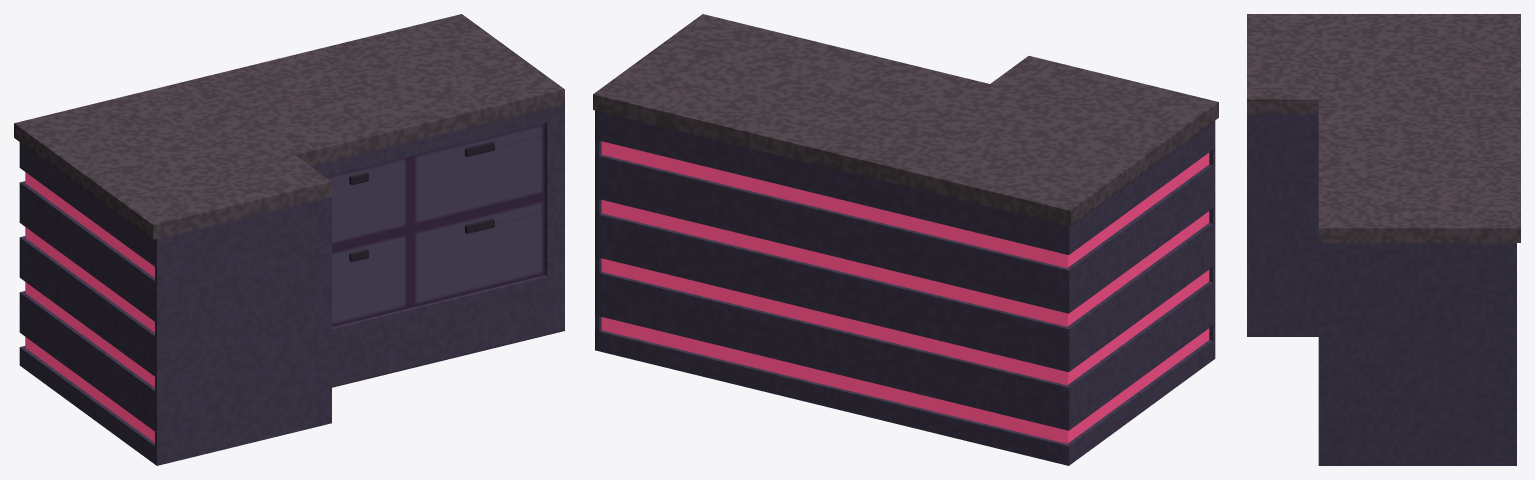
File: Bar_L.dae
The picture shows the model from 3 angles, left to right: view 1: azimuth 30°, elevation 25°; view 2: azimuth 150°, elevation 25°; view 3: azimuth 270°, elevation 25°; orthographic projection. The views are drawn at different scales.
Visible parts, largest first — view 1: Content; view 2: Content; view 3: Content.
Boxes of the visible parts, <box> form: Content: <box>14,14,564,465</box>; Content: <box>593,14,1218,465</box>; Content: <box>1247,14,1520,465</box>.
Size of the model in its own units: 128 by 66 by 69.
Materials: 1 (1 with a texture image).
